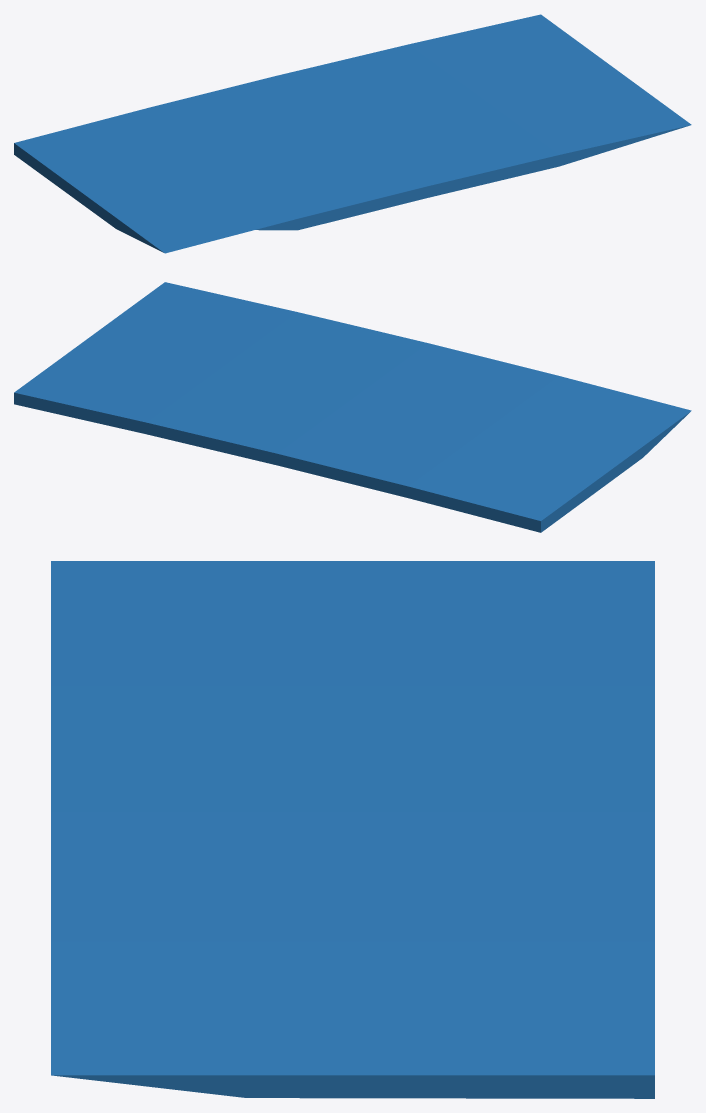
The model's file is hana_roadster_boot.glb.
3 renders of one model, top to bottom at view 1: azimuth 30°, elevation 25°; view 2: azimuth 150°, elevation 25°; view 3: azimuth 270°, elevation 25°, orthographic. The views are drawn at different scales.
Parts seen in each view (by area): view 1: hana_roadster_boot; view 2: hana_roadster_boot; view 3: hana_roadster_boot.
Part boxes in pixels (box(x1,y1,x2,y2)): hana_roadster_boot: box(14, 14, 691, 253); hana_roadster_boot: box(14, 282, 691, 532); hana_roadster_boot: box(51, 561, 654, 1098).
Size of the model in its own units: 1.4 by 0.0378 by 0.6966.
